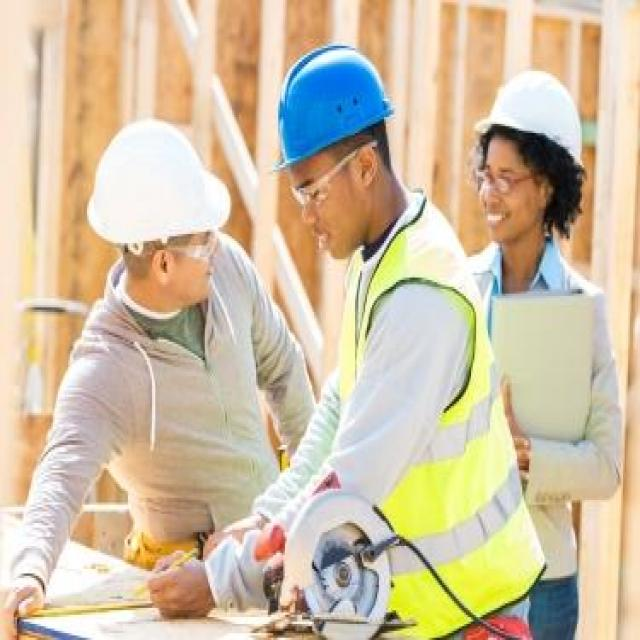Reflective-Jacket: (334, 222, 534, 640)
Safety-Helmet: (84, 112, 232, 252), (266, 42, 398, 175), (475, 64, 587, 177)
